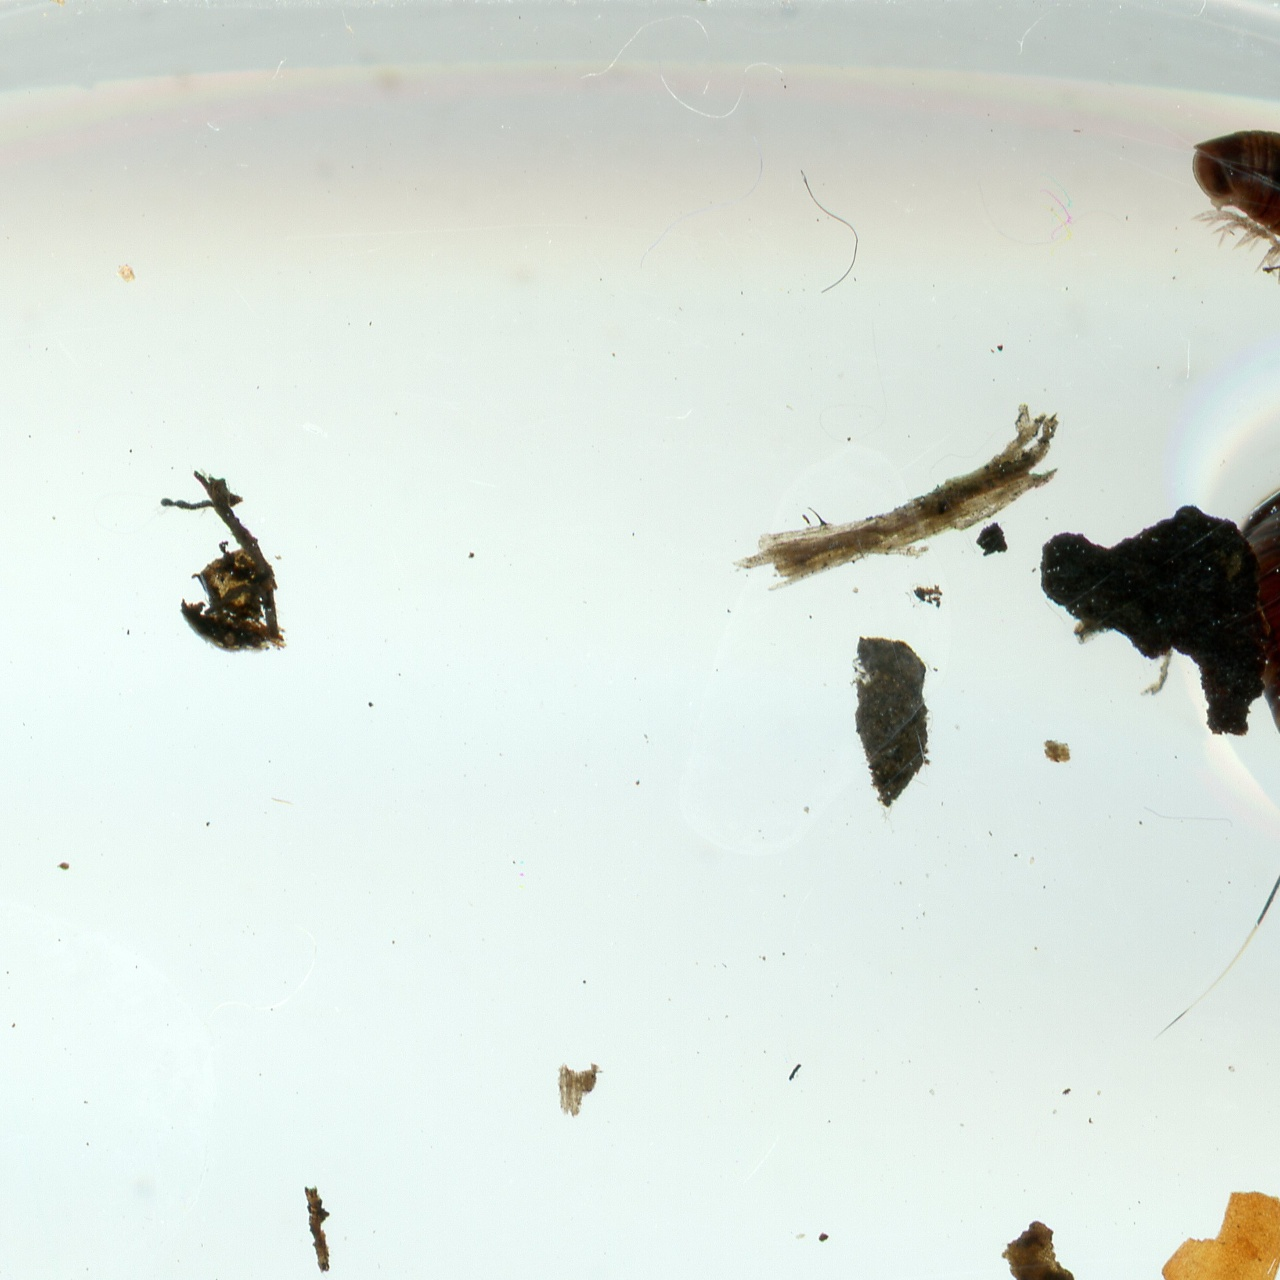arthropod: (1182, 93, 1280, 893)
